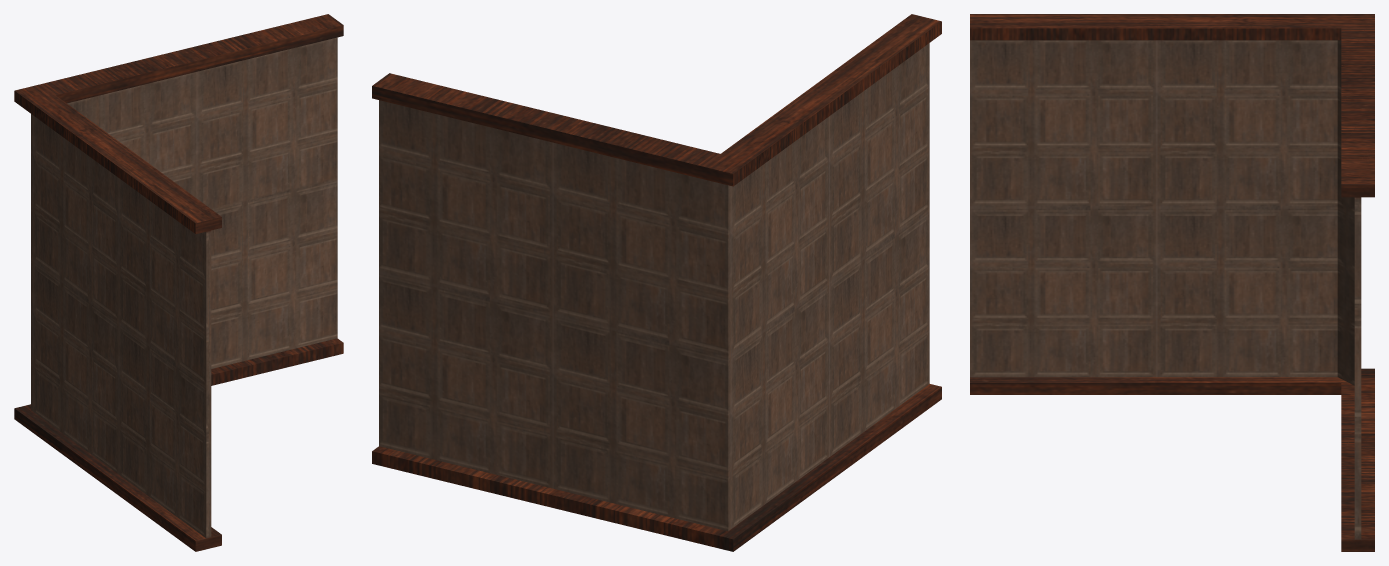
The model's file is Top_Corner.fbx.
3 views of the same model, side by side, from view 1: azimuth 30°, elevation 25°; view 2: azimuth 150°, elevation 25°; view 3: azimuth 270°, elevation 25° (orthographic). The views are drawn at different scales.
Parts seen in each view (by area): view 1: CORNER; view 2: CORNER; view 3: CORNER.
Boxes of the visible parts, x1=… form: CORNER: x1=14, y1=14, x2=343, y2=551; CORNER: x1=372, y1=14, x2=941, y2=551; CORNER: x1=970, y1=14, x2=1374, y2=551.
Size of the model in its own units: 300 by 300 by 300.
